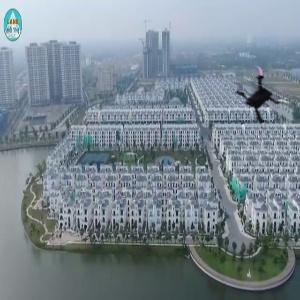drone: (222, 64, 294, 136)
